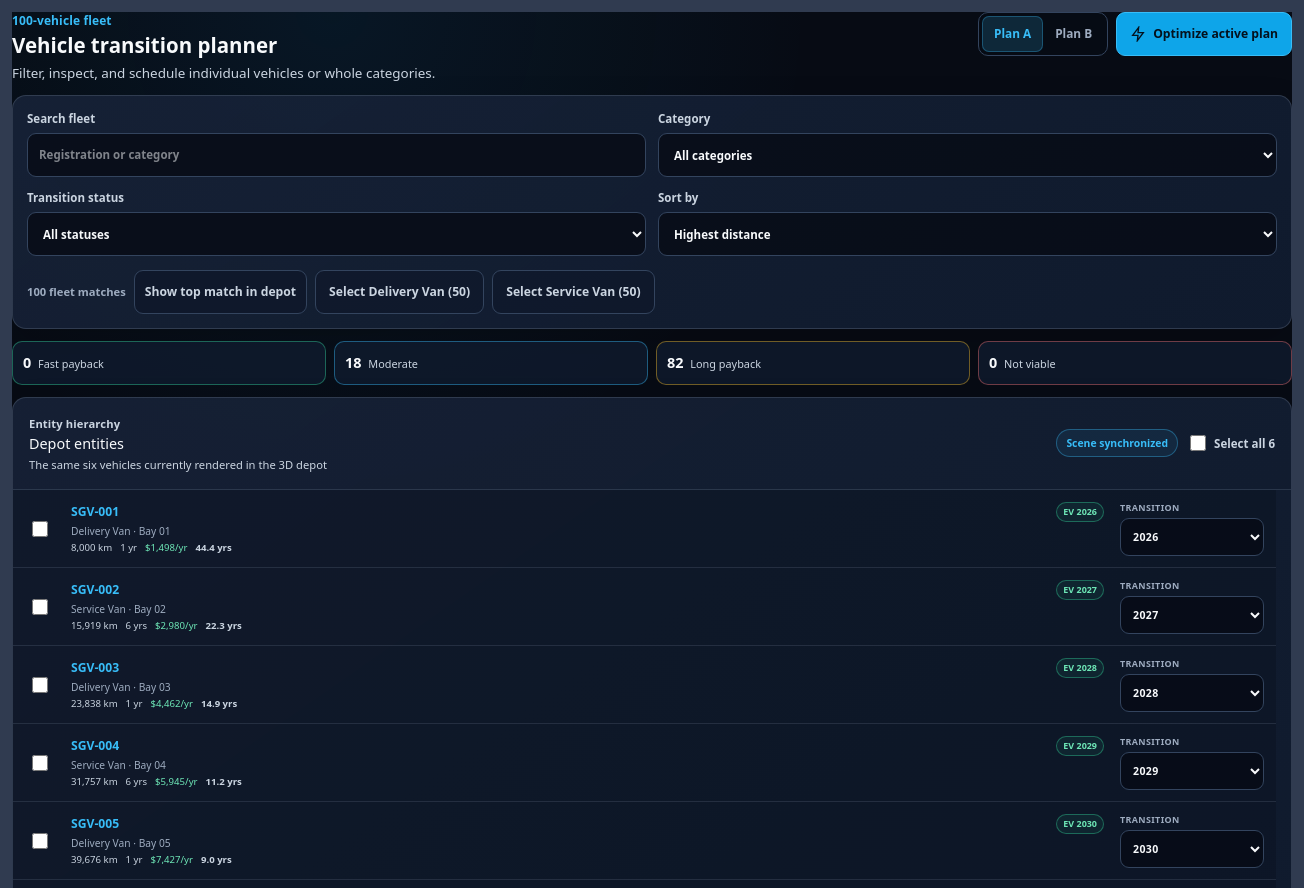
it: FleetPlanner › selects a whole vehicle category for bulk scheduling
Click the button "Select Delivery Van (50)": (400, 292) x1=315 y1=270 x2=484 y2=314
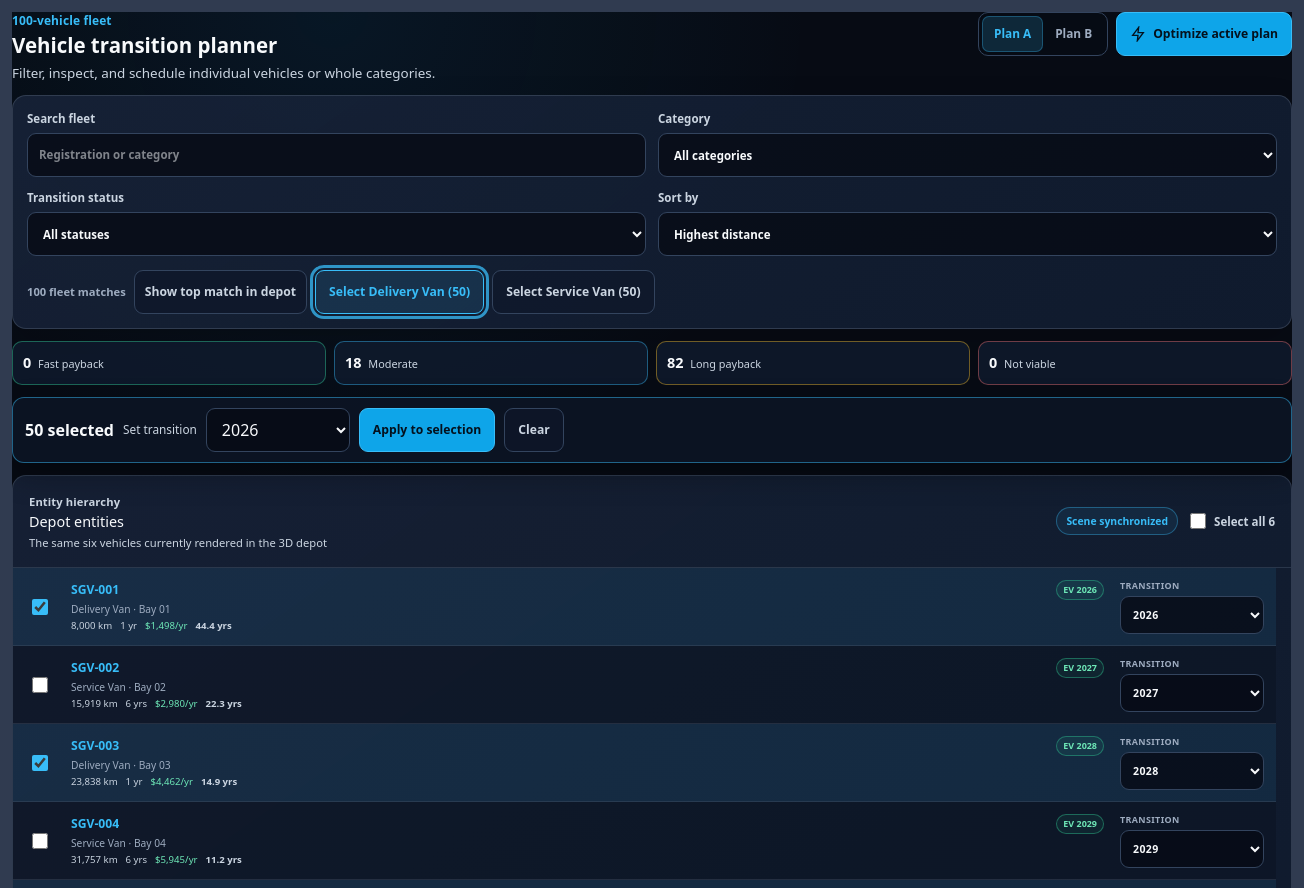
Now the text "50 selected" is shown, box x1=25 y1=418 x2=114 y2=442
